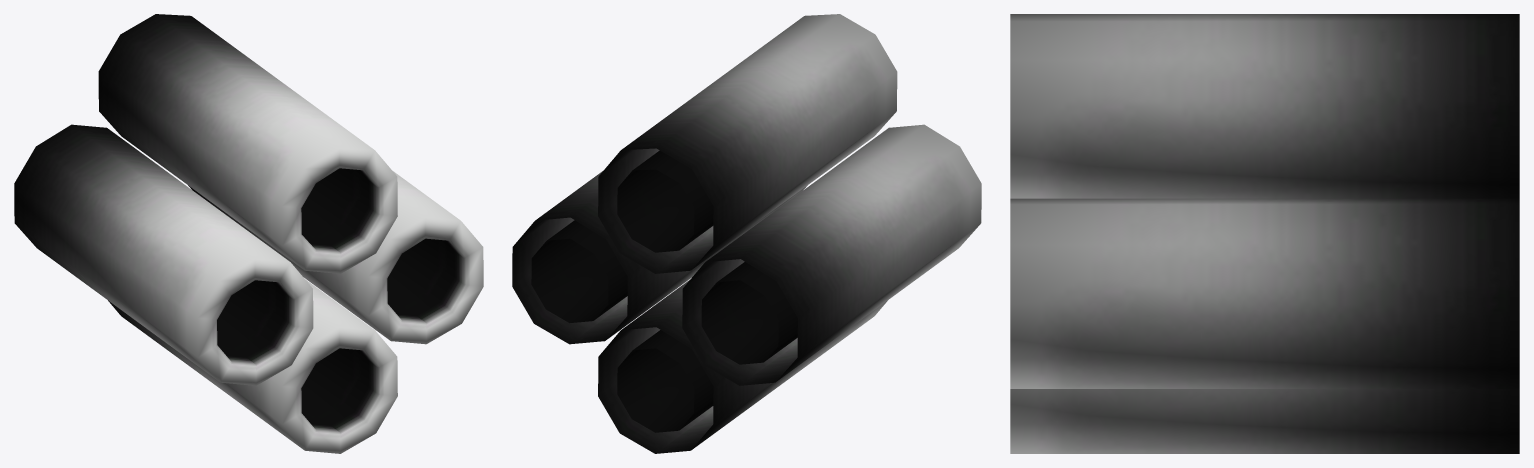
The model's file is gatlingpea_canones.obj.
The picture shows the model from 3 angles, left to right: view 1: azimuth 30°, elevation 25°; view 2: azimuth 150°, elevation 25°; view 3: azimuth 270°, elevation 25°; orthographic projection. The views are drawn at different scales.
Parts seen in each view (by area): view 1: gatlingpea_canones; view 2: gatlingpea_canones; view 3: gatlingpea_canones.
Part boxes in pixels (bbox=[...]): gatlingpea_canones: bbox=[14, 14, 483, 453]; gatlingpea_canones: bbox=[512, 14, 981, 453]; gatlingpea_canones: bbox=[1010, 14, 1519, 453].
Bounding box in the file's own units: 0.2208 × 0.2256 × 0.2456.
